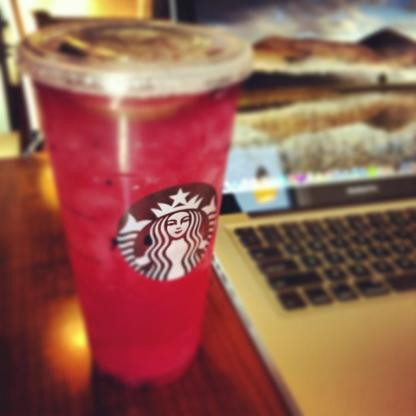board: (150, 0, 415, 415), (21, 18, 255, 387)
